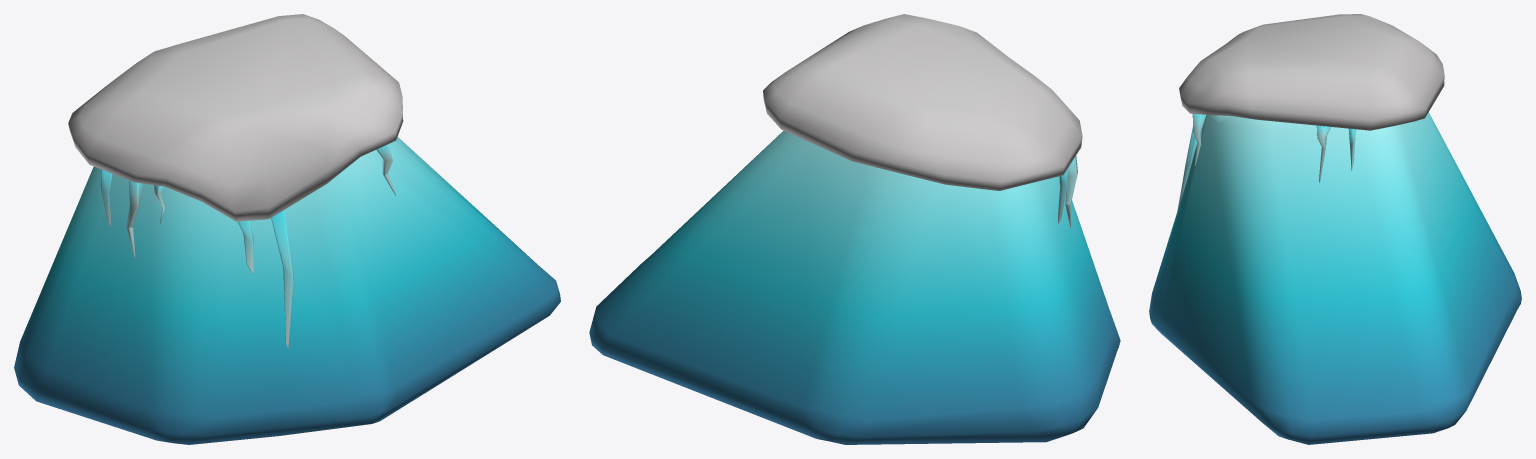
File: Mound_02.fbx
3 renders of one model, left to right at view 1: azimuth 30°, elevation 25°; view 2: azimuth 150°, elevation 25°; view 3: azimuth 270°, elevation 25°, orthographic. The views are drawn at different scales.
Parts seen in each view (by area): view 1: Mound_02; view 2: Mound_02; view 3: Mound_02.
Boxes of the visible parts, box(x1,y1,x2,y2) form: Mound_02: box(14, 14, 560, 444); Mound_02: box(589, 14, 1120, 444); Mound_02: box(1149, 14, 1521, 444).
Bounding box in the file's own units: 756 × 469 × 548.
